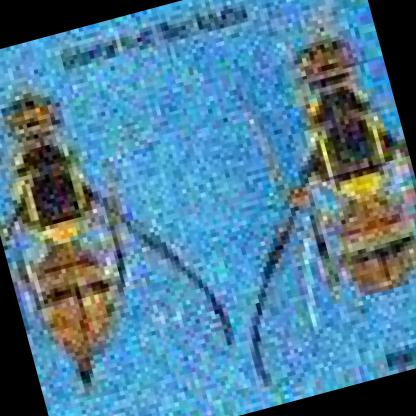fruit fly: (4, 95, 234, 390)
